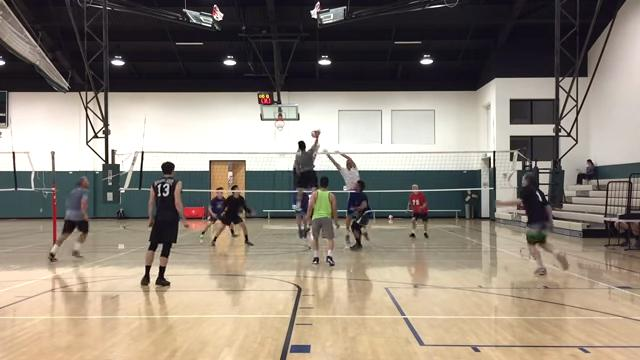Attack: (288, 125, 324, 216)
Block: (325, 149, 363, 192)
Player: (496, 173, 568, 274), (141, 162, 188, 285), (48, 177, 88, 261), (307, 176, 338, 265), (211, 185, 253, 245), (347, 180, 370, 249), (200, 187, 224, 242), (407, 184, 428, 238), (293, 189, 308, 238), (614, 221, 639, 248)
ball: (311, 128, 319, 139)
